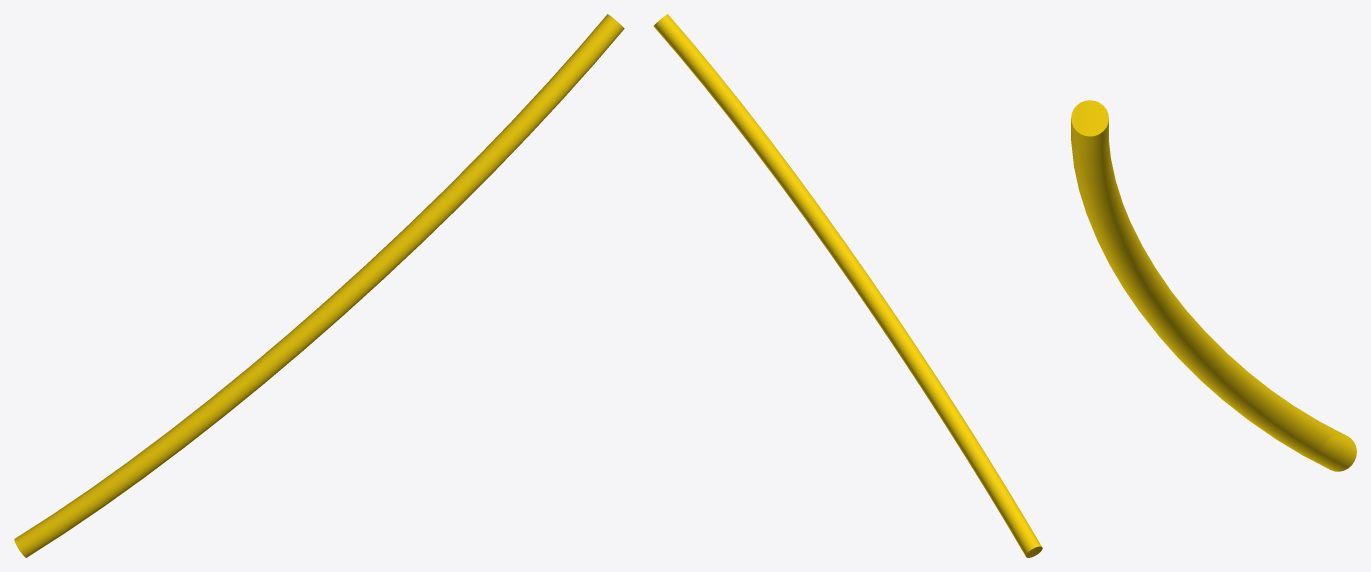
The model's file is Event_421364160_track_50.fbx.
3 views of the same model, side by side, from view 1: azimuth 30°, elevation 25°; view 2: azimuth 150°, elevation 25°; view 3: azimuth 270°, elevation 25° (orthographic). The views are drawn at different scales.
Visible parts, largest first — view 1: Model; view 2: Model; view 3: Model.
Boxes of the visible parts, box(x1,y1,x2,y2) form: Model: box(14, 14, 624, 557); Model: box(653, 14, 1042, 557); Model: box(1071, 100, 1356, 471).
Size of the model in its own units: 1.09 by 0.9167 by 0.3017.
